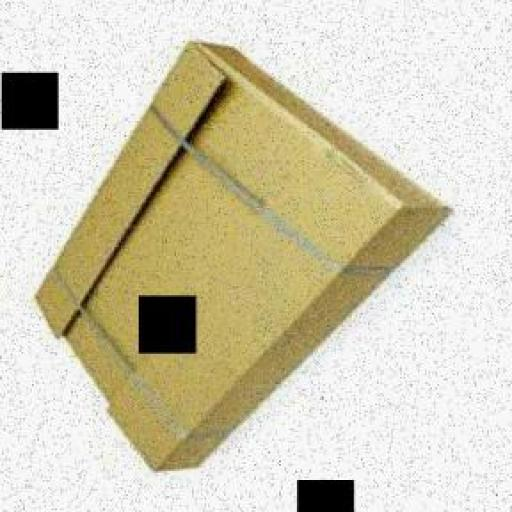box: (25, 30, 473, 476)
